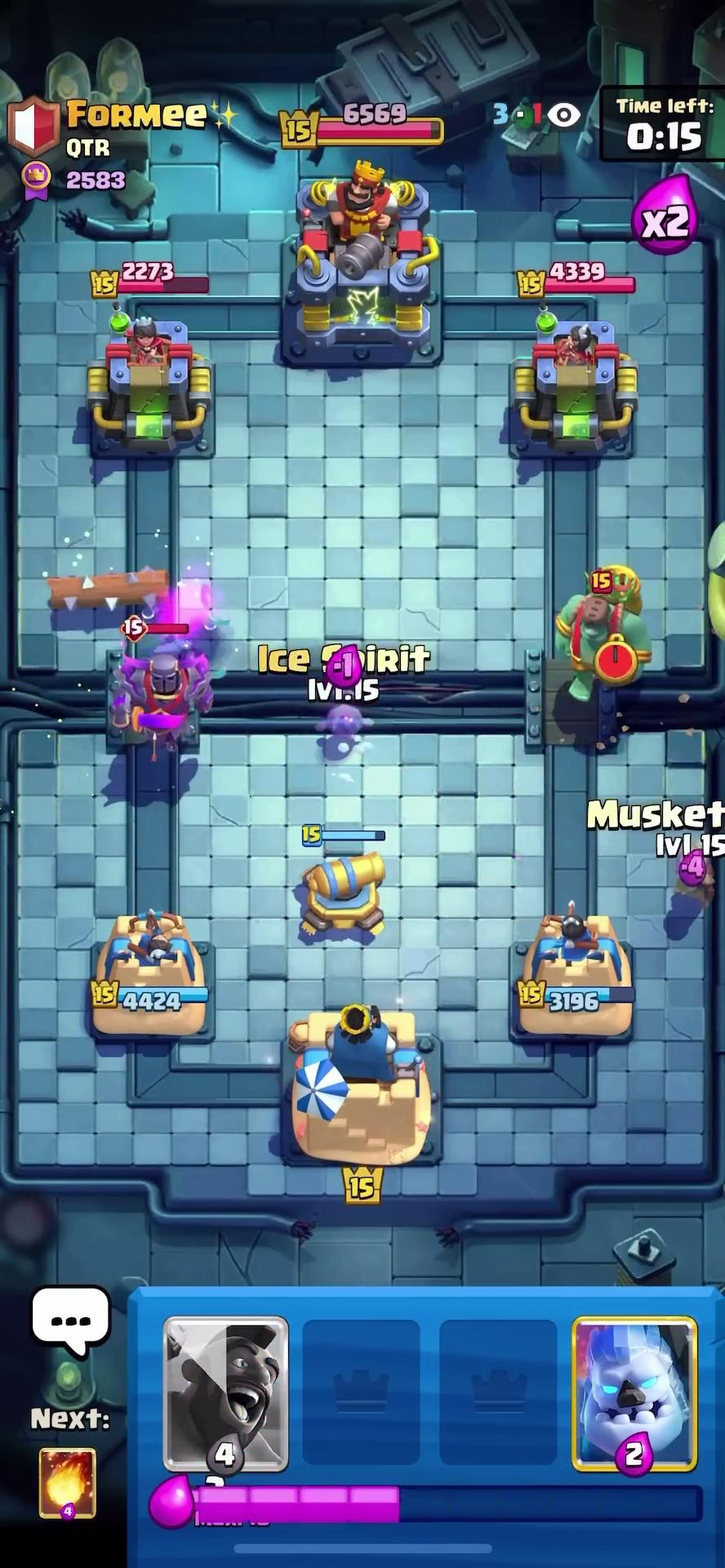cannon: (284, 831, 408, 945)
